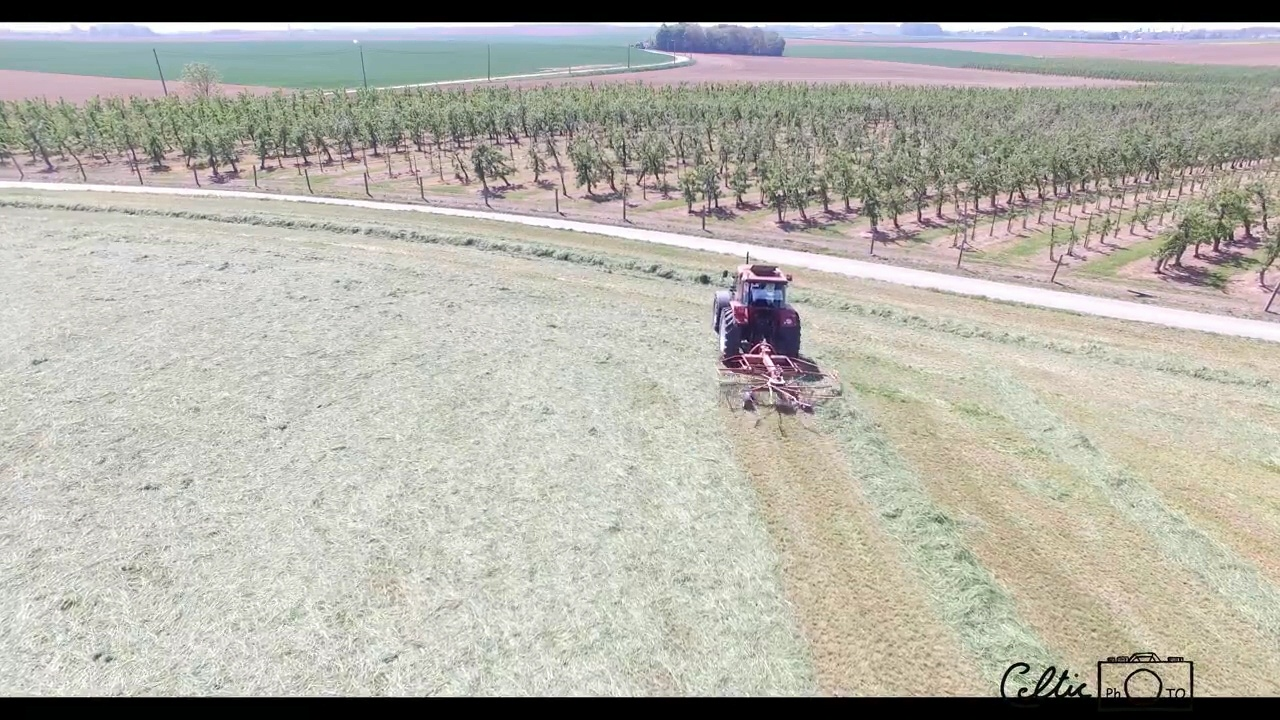traktor: (710, 241, 807, 360)
